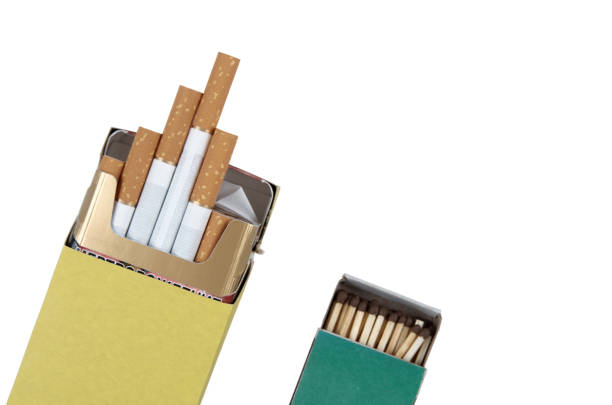cigarette: (6, 124, 282, 405), (148, 51, 240, 252), (126, 83, 202, 246), (171, 126, 238, 263), (108, 125, 163, 239), (193, 210, 235, 262), (97, 151, 125, 178)
